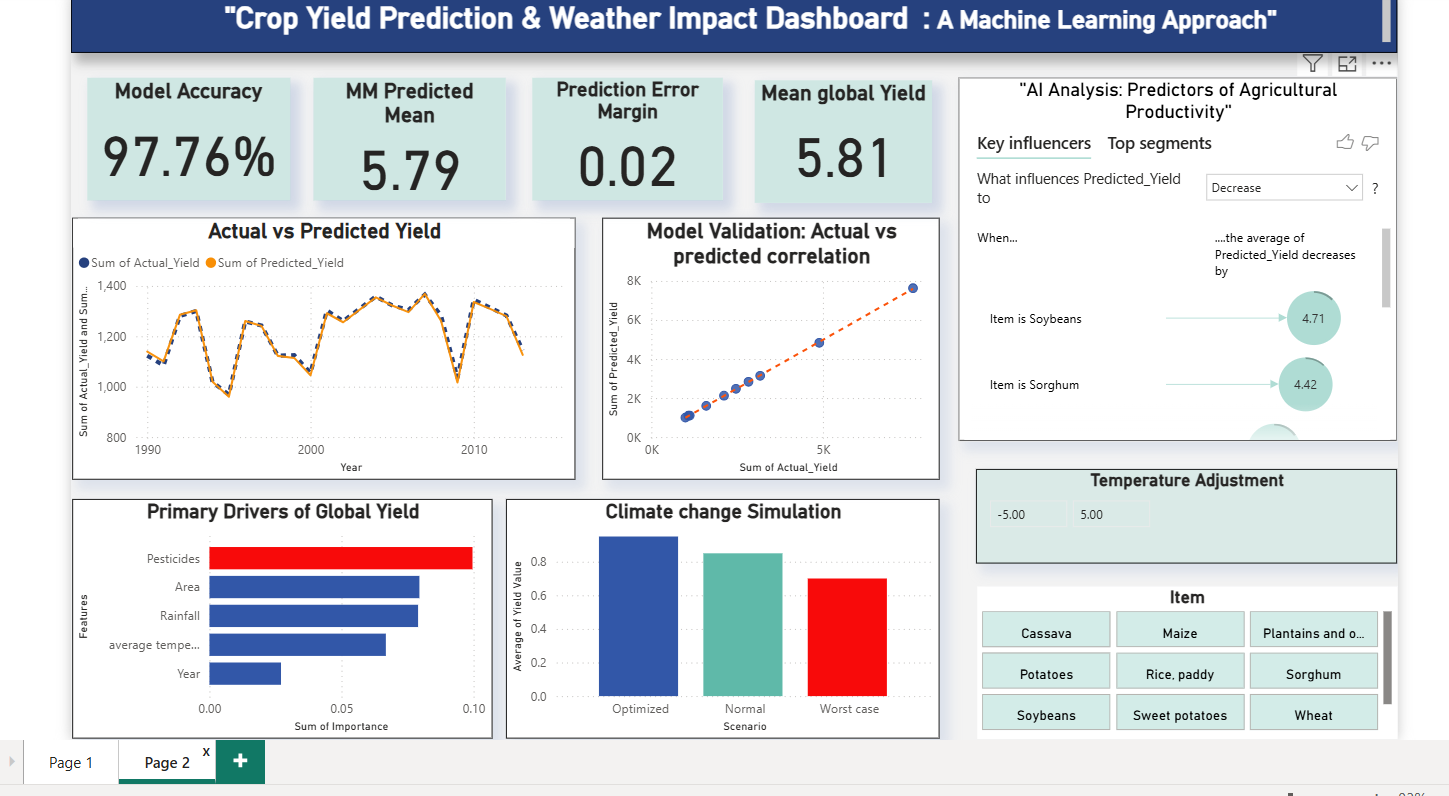

This screenshot's page, from the dashboard's own definition file:
{"tool":"powerbi","page":{"name":"Page 2","canvas":[1280,720],"ordinal":1},"visuals":[{"type":"lineChart","title":"Actual vs Predicted Yield","fields":{"Category":["Global_Yield_Predictions.Year"],"Y":["Sum(Global_Yield_Predictions.Actual_Yield)","Sum(Global_Yield_Predictions.Predicted_Yield)"]},"box":[1.4,215.7,485.7,252.9],"z":0},{"type":"card","title":"Model Accuracy","fields":{"Values":["Global_Yield_Predictions.Model Confidence"]},"box":[15.7,81.4,195.7,118.6],"z":1000},{"type":"card","title":"MM Predicted Mean","fields":{"Values":["Avg(Global_Yield_Predictions.Predicted_Yield)"]},"box":[234,80.8,185.8,119.4],"z":2000},{"type":"clusteredBarChart","title":"Primary Drivers of Global Yield","fields":{"Category":["Feature_imp_table.Features"],"Y":["Sum(Feature_imp_table.Importance)"]},"box":[1.4,487.1,405.7,231.4],"z":3000},{"type":"clusteredColumnChart","title":"Climate change Simulation","fields":{"Category":["Table.Scenario"],"Y":["Avg(Table.Yield Value)"]},"box":[420,487.1,418.6,231.4],"z":4000},{"type":"scatterChart","title":"Model Validation: Actual vs predicted correlation","fields":{"X":["Sum(Global_Yield_Predictions.Actual_Yield)"],"Y":["Sum(Global_Yield_Predictions.Predicted_Yield)"],"Category":["Global_Yield_Predictions.Item","Global_Yield_Predictions.Year"]},"box":[512.9,215.7,325.7,252.9],"z":5000},{"type":"keyDriversVisual","title":"\"AI Analysis: Predictors of Agricultural Productivity\"","fields":{"Target":["Global_Yield_Predictions.Predicted_Yield"],"ExplainBy":["Sum(Global_Yield_Predictions.avg_temp)","Sum(Global_Yield_Predictions.avg_rainfall)","Global_Yield_Predictions.Item","Global_Yield_Predictions.Area","Sum(Global_Yield_Predictions.pesticides_tonnes)"]},"box":[856.6,70,423.5,351.1],"z":6000},{"type":"card","title":"Mean global Yield","fields":{"Values":["Avg(Global_Yield_Predictions.Actual_Yield)"]},"box":[660,82.9,171.4,118.6],"z":7000},{"type":"card","title":"Prediction Error Margin","fields":{"Values":["Global_Yield_Predictions.Yield Variance"]},"box":[445.7,81.4,184.3,118.6],"z":8000},{"type":"advancedSlicerVisual","fields":{"Values":["Global_Yield_Predictions.Item"]},"box":[867.4,561,405.4,147.2],"z":9000},{"type":"slicer","title":"Temperature Adjustment","fields":{"Values":["Temp_Adjustment.Temp_Adjustment"]},"box":[866.2,430.7,406.6,113.4],"z":10000},{"type":"textbox","box":[0,0,1280,57.1],"z":11000}]}

Visuals, with their boxes on the page's 1280x720 design canvas (x1, y1, x2, y2). These are canvas units, not pixel positions in the 1449x796 screenshot, which may show the page scaled, cropped or inside an application window:
"Actual vs Predicted Yield" lineChart: left=1, top=216, right=487, bottom=469
"Model Accuracy" card: left=16, top=81, right=211, bottom=200
"MM Predicted Mean" card: left=234, top=81, right=420, bottom=200
"Primary Drivers of Global Yield" clusteredBarChart: left=1, top=487, right=407, bottom=718
"Climate change Simulation" clusteredColumnChart: left=420, top=487, right=839, bottom=718
"Model Validation: Actual vs predicted correlation" scatterChart: left=513, top=216, right=839, bottom=469
""AI Analysis: Predictors of Agricultural Productivity"" keyDriversVisual: left=857, top=70, right=1280, bottom=421
"Mean global Yield" card: left=660, top=83, right=831, bottom=202
"Prediction Error Margin" card: left=446, top=81, right=630, bottom=200
advancedSlicerVisual - Global_Yield_Predictions.Item: left=867, top=561, right=1273, bottom=708
"Temperature Adjustment" slicer: left=866, top=431, right=1273, bottom=544
textbox: left=0, top=0, right=1280, bottom=57
